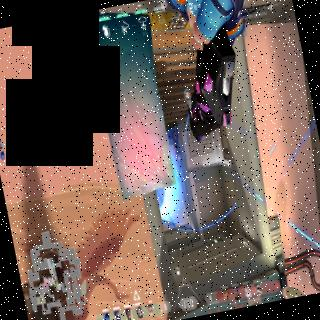ENEMY-BODY: (168, 119, 185, 161)
ENEMY-HEAD: (177, 153, 180, 160)
